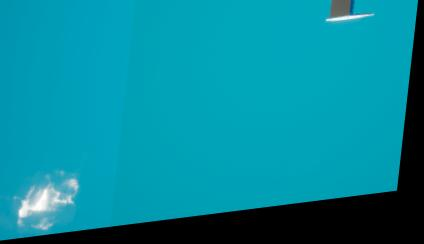boat: (321, 0, 384, 34)
drone: (331, 0, 355, 27)
land_base: (0, 164, 99, 243)
